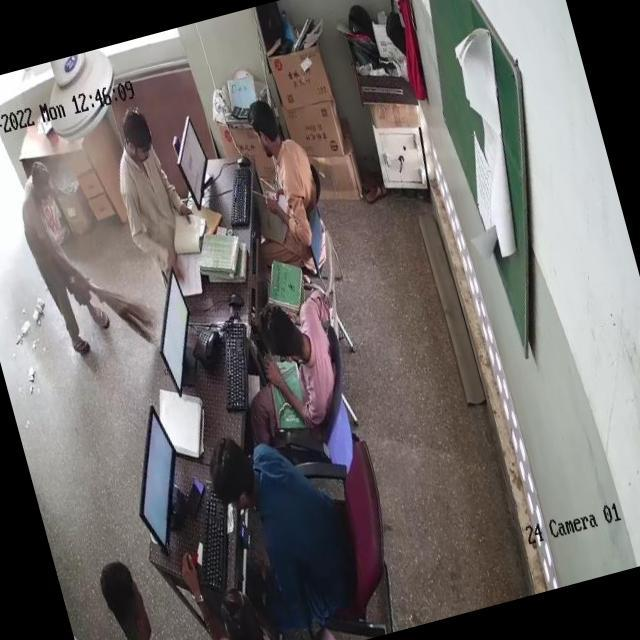person: (213, 423, 357, 628), (247, 99, 336, 264), (106, 108, 190, 274), (16, 162, 90, 350), (246, 300, 340, 424), (100, 557, 195, 640), (209, 590, 292, 640)
